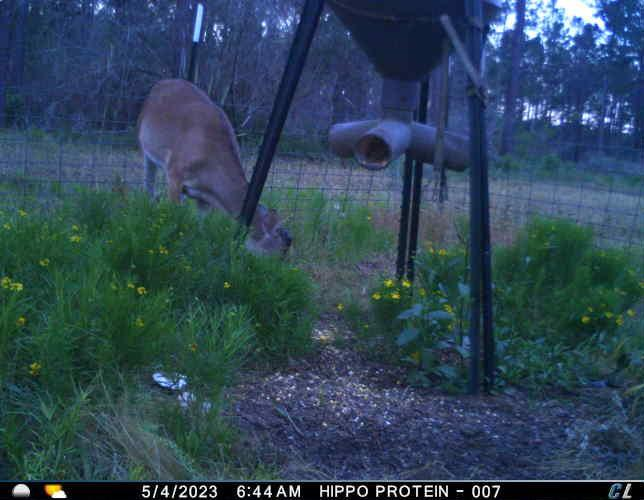Deer: (133, 77, 295, 264)
